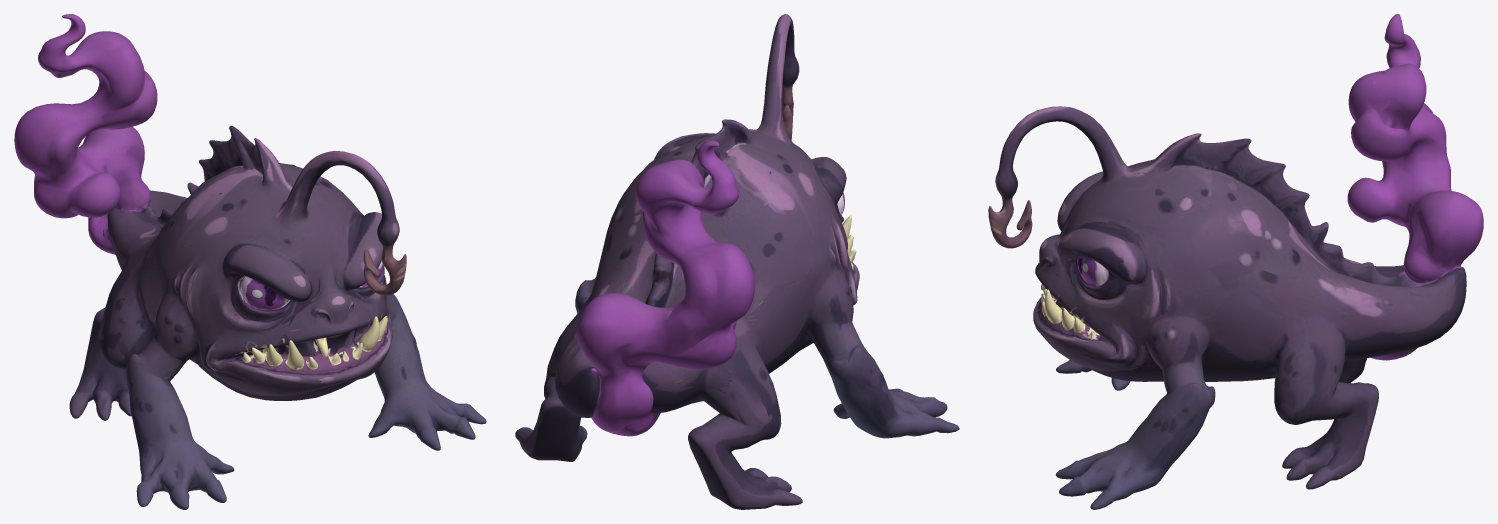
The picture shows the model from 3 angles, left to right: view 1: azimuth 30°, elevation 25°; view 2: azimuth 150°, elevation 25°; view 3: azimuth 270°, elevation 25°; orthographic projection. The views are drawn at different scales.
Parts seen in each view (by area): view 1: Mesh_0; view 2: Mesh_0; view 3: Mesh_0.
Boxes of the visible parts, box(x1,y1,x2,y2) form: Mesh_0: box(14, 14, 486, 509); Mesh_0: box(515, 14, 959, 509); Mesh_0: box(988, 14, 1483, 509).
Bounding box in the file's own units: 1.54 × 1.55 × 1.9.
Materials: 1 (1 with a texture image).
